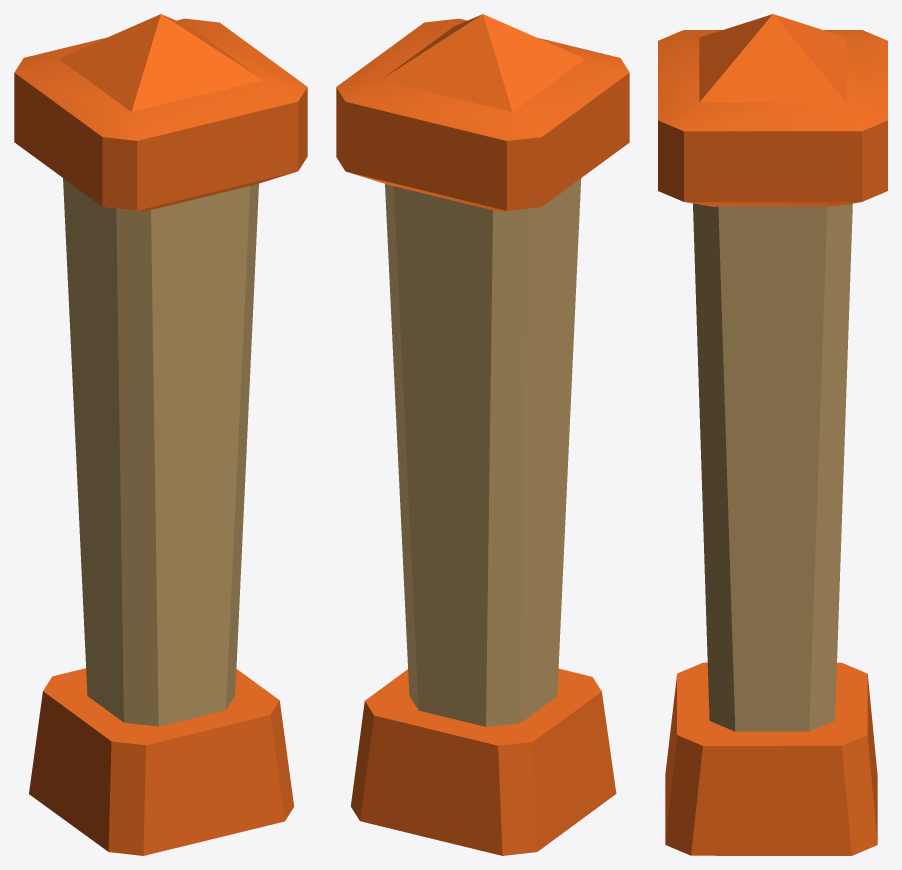
File: Build_Fence03_zhuzi.FBX
3 views of the same model, side by side, from view 1: azimuth 30°, elevation 25°; view 2: azimuth 150°, elevation 25°; view 3: azimuth 270°, elevation 25° (orthographic).
Visible parts, largest first — view 1: Build_Fence03_zhuzi; view 2: Build_Fence03_zhuzi; view 3: Build_Fence03_zhuzi.
Boxes of the visible parts, box(x1,y1,x2,y2) form: Build_Fence03_zhuzi: box(14, 14, 307, 855); Build_Fence03_zhuzi: box(336, 14, 629, 855); Build_Fence03_zhuzi: box(658, 14, 887, 855).
Bounding box in the file's own units: 32.57 × 119 × 31.17.
1 material, 1 textured.
